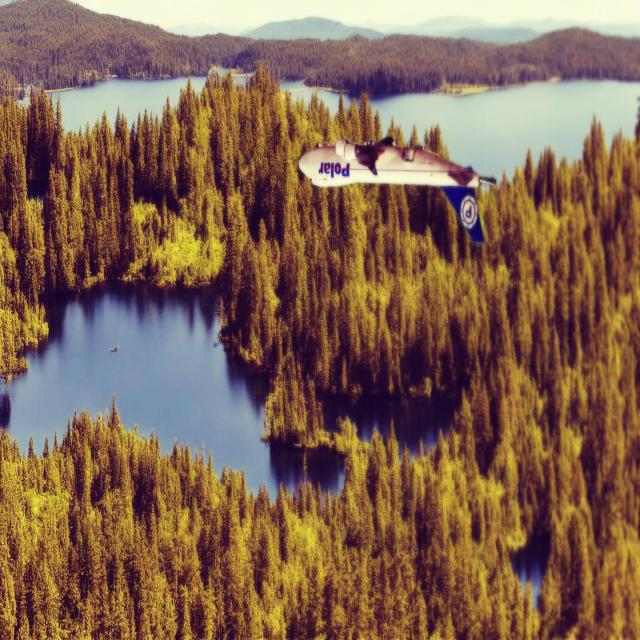airplane: (298, 135, 497, 244)
